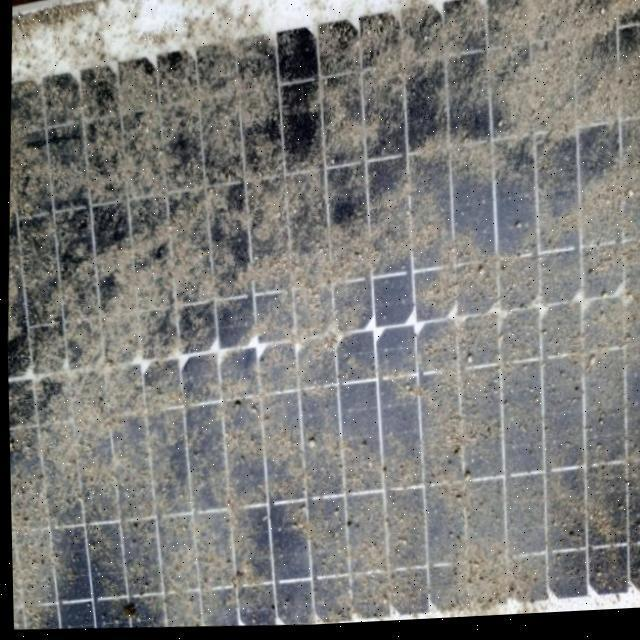Surface Contaminant: (5, 9, 606, 610)
